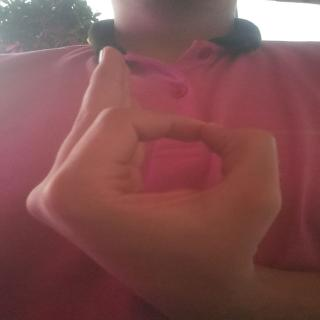Space: (33, 42, 289, 304)
